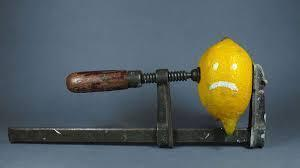lemon: (196, 37, 254, 136)
